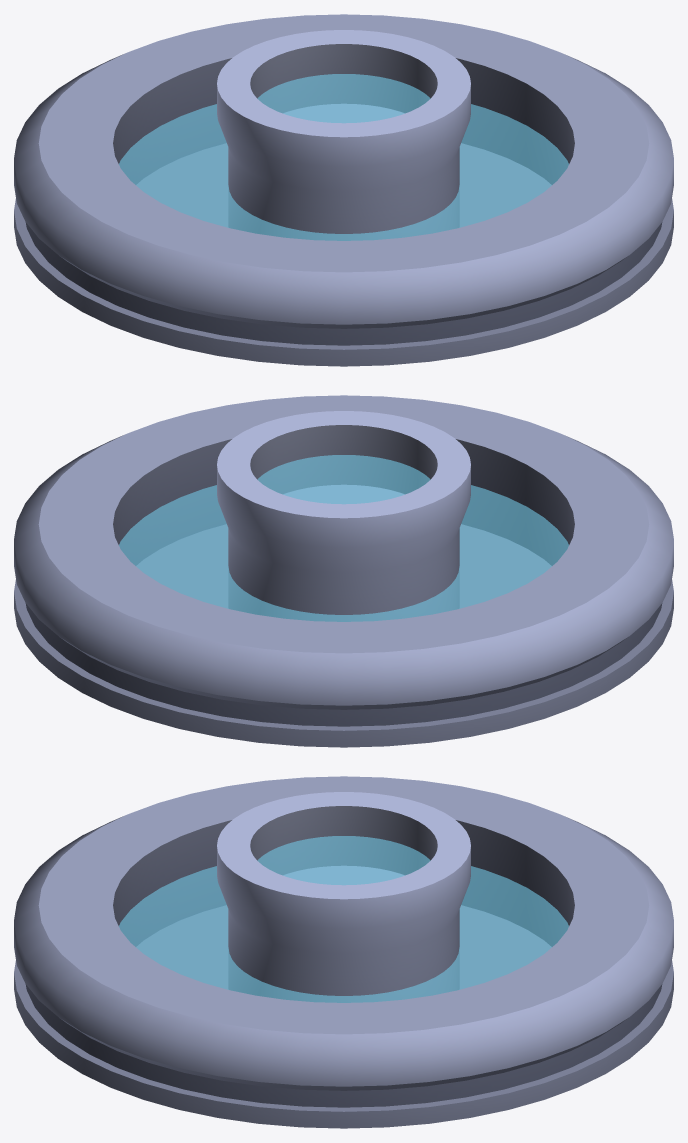
File: fountain.glb
3 renders of one model, top to bottom at view 1: azimuth 30°, elevation 25°; view 2: azimuth 150°, elevation 25°; view 3: azimuth 270°, elevation 25°, orthographic.
Parts seen in each view (by area): view 1: fountain-round-detail, (%ignore); view 2: fountain-round-detail, (%ignore); view 3: fountain-round-detail, (%ignore).
Part boxes in pixels (left/top/right/bottom): fountain-round-detail: left=14, top=14, right=673, bottom=366; (%ignore): left=119, top=74, right=568, bottom=240; fountain-round-detail: left=14, top=395, right=673, bottom=747; (%ignore): left=119, top=455, right=568, bottom=621; fountain-round-detail: left=14, top=776, right=673, bottom=1128; (%ignore): left=119, top=836, right=568, bottom=1002.
Bounding box in the file's own units: 6.25 × 1.5 × 6.25.
2 materials, 1 textured.
